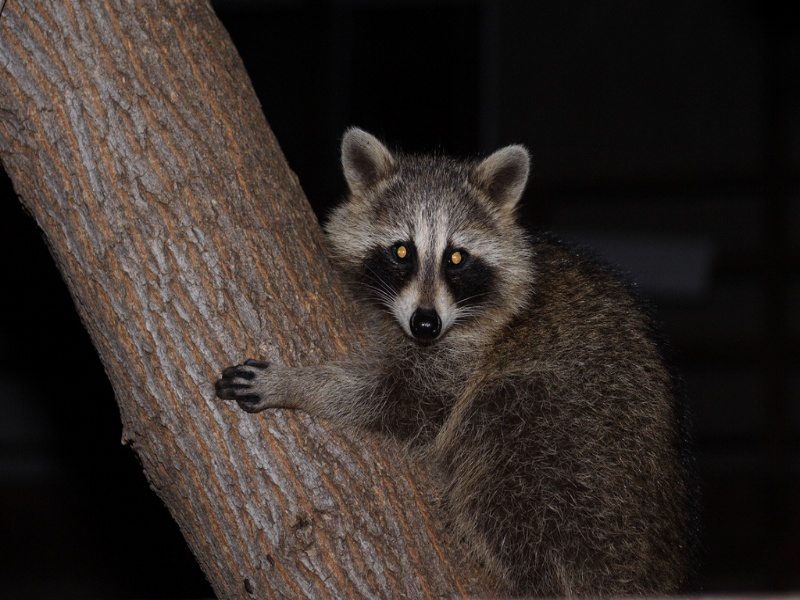raccoon: (210, 125, 693, 589)
